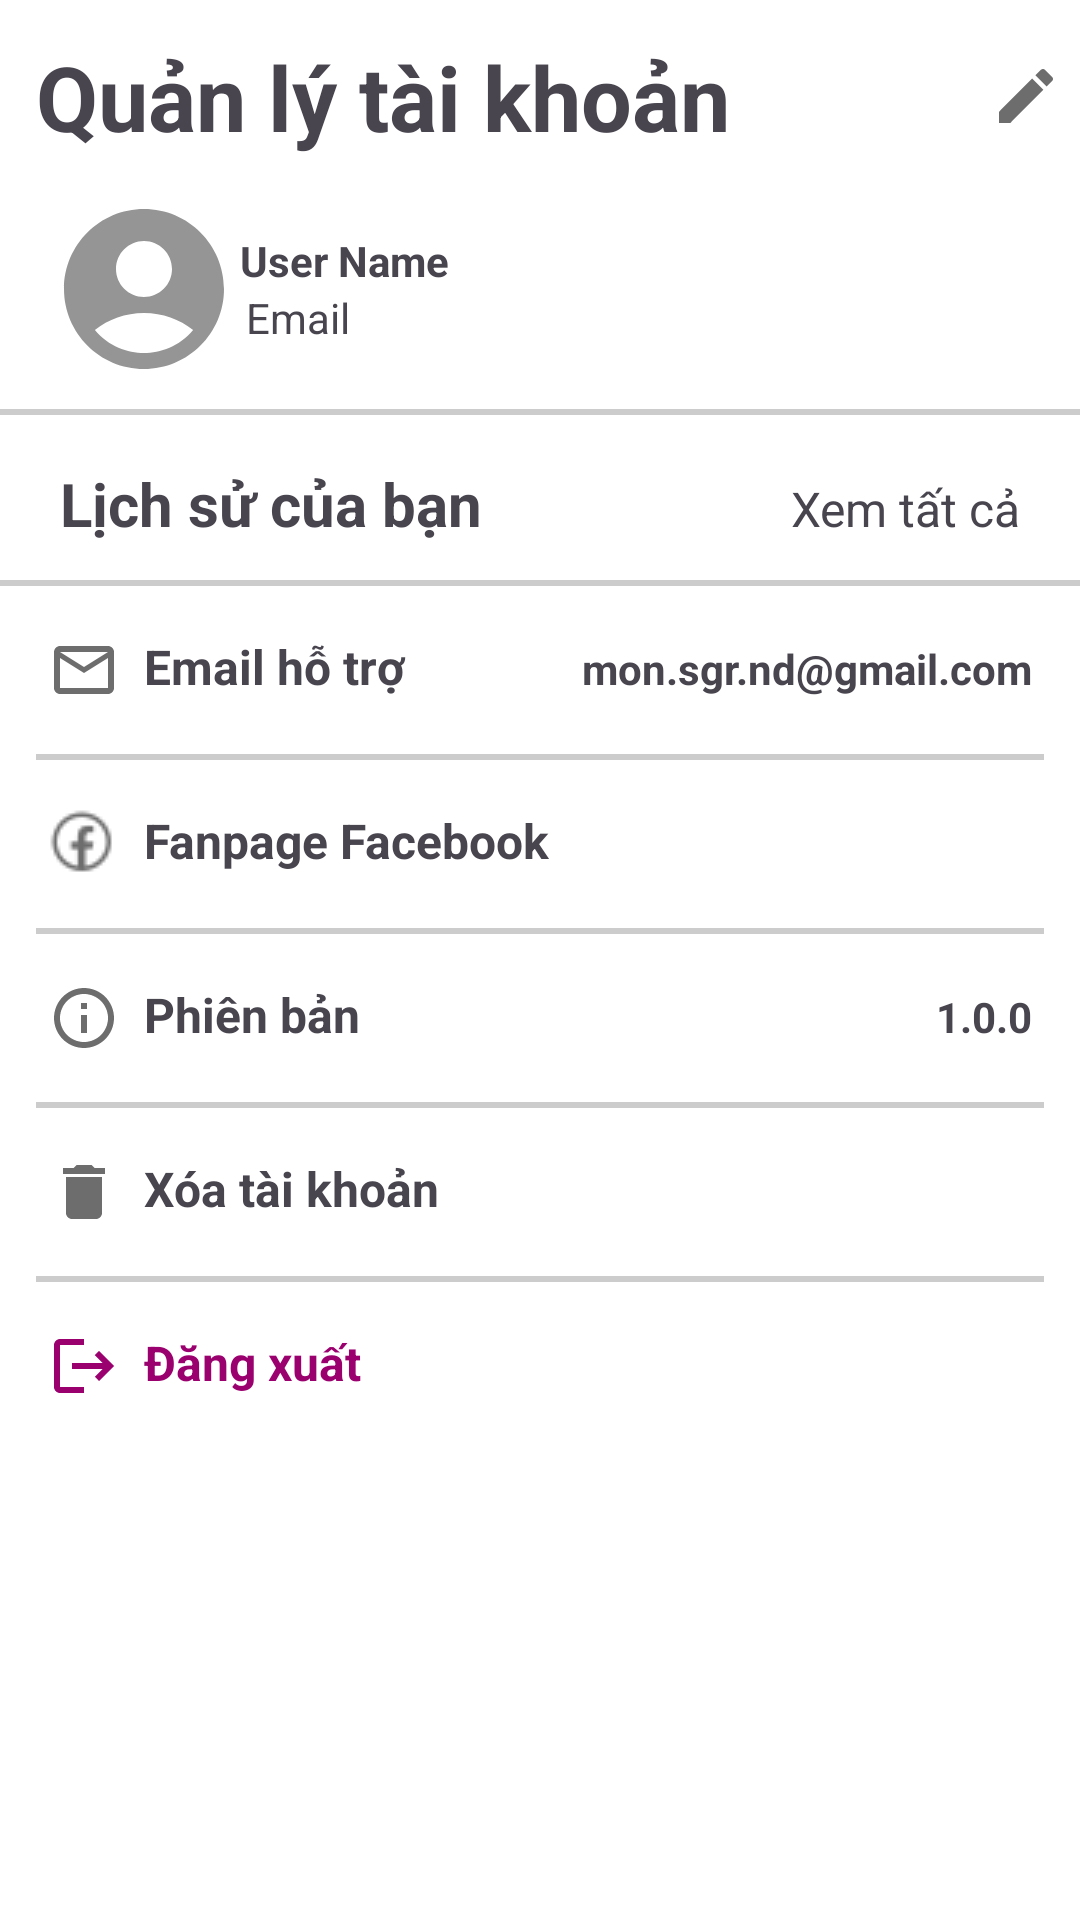

Locate icon controls on the screen. Image size 1080*1920, boxes as (x1, y1, x2, y2).
account circle: (64, 209, 224, 369)
create: (999, 69, 1053, 123)
